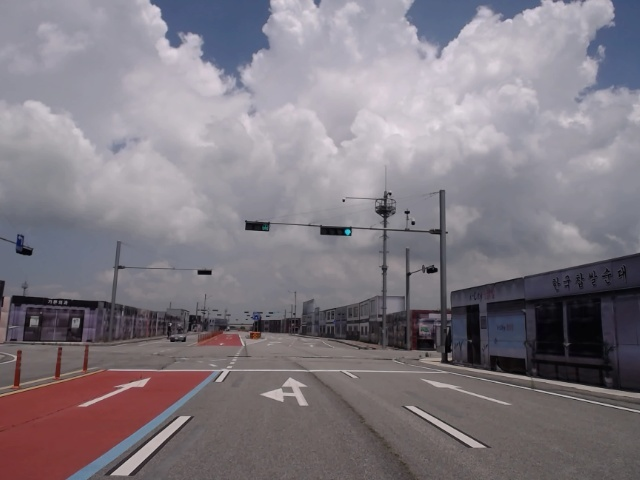straight_green_4: (321, 224, 351, 238)
